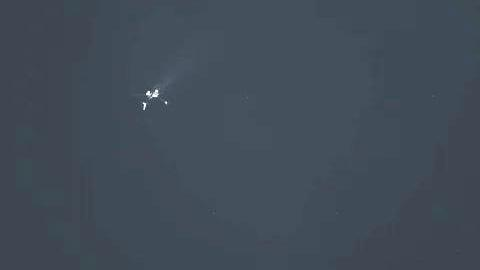Plane: (104, 79, 186, 119)
